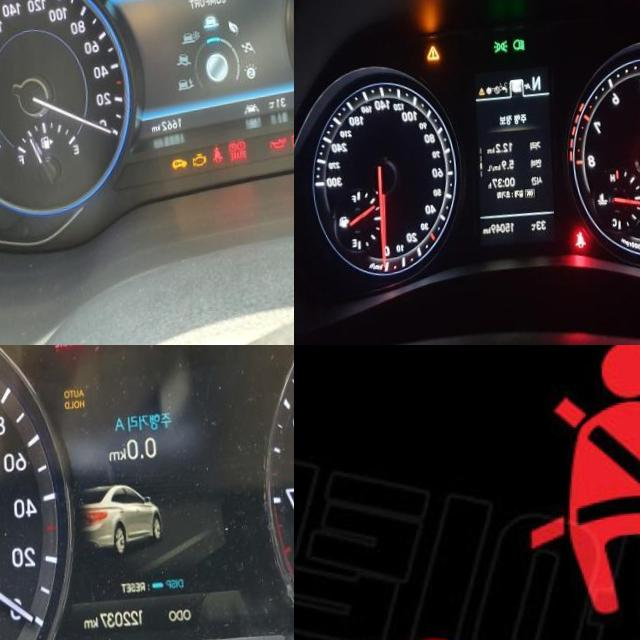Central Warning lamp: (425, 50, 439, 66)
Low beam: (511, 44, 524, 58)
SideLamp: (491, 46, 507, 60)
